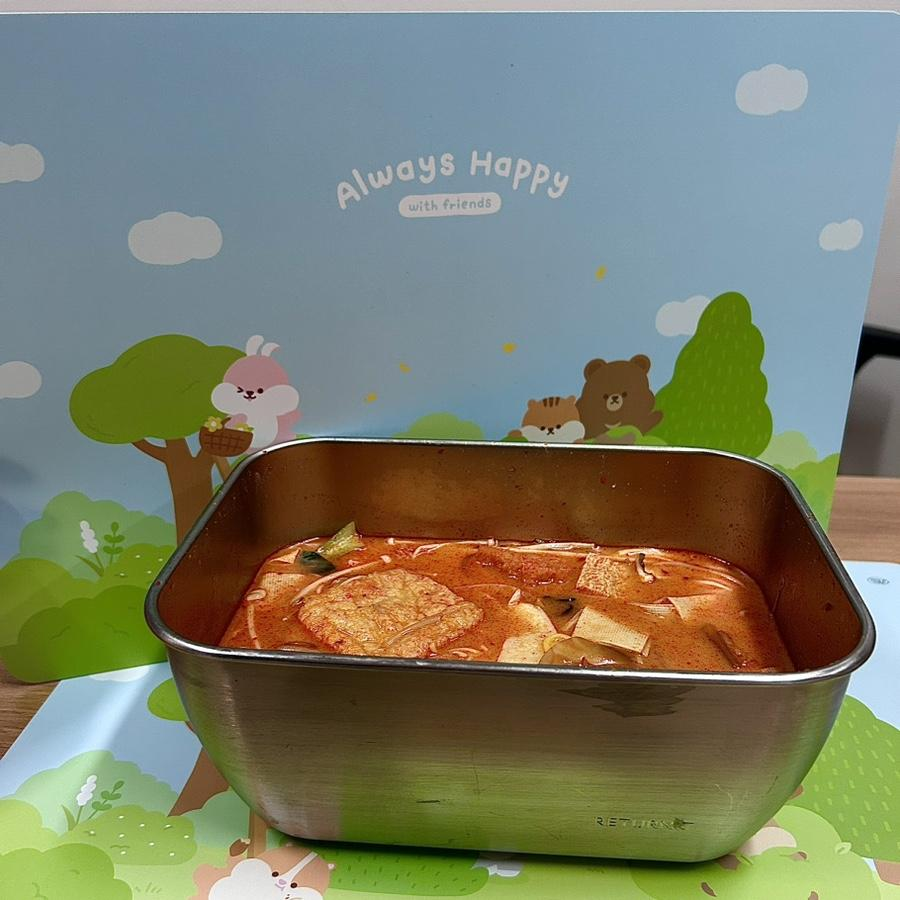Lunch Box: (149, 439, 873, 860)
